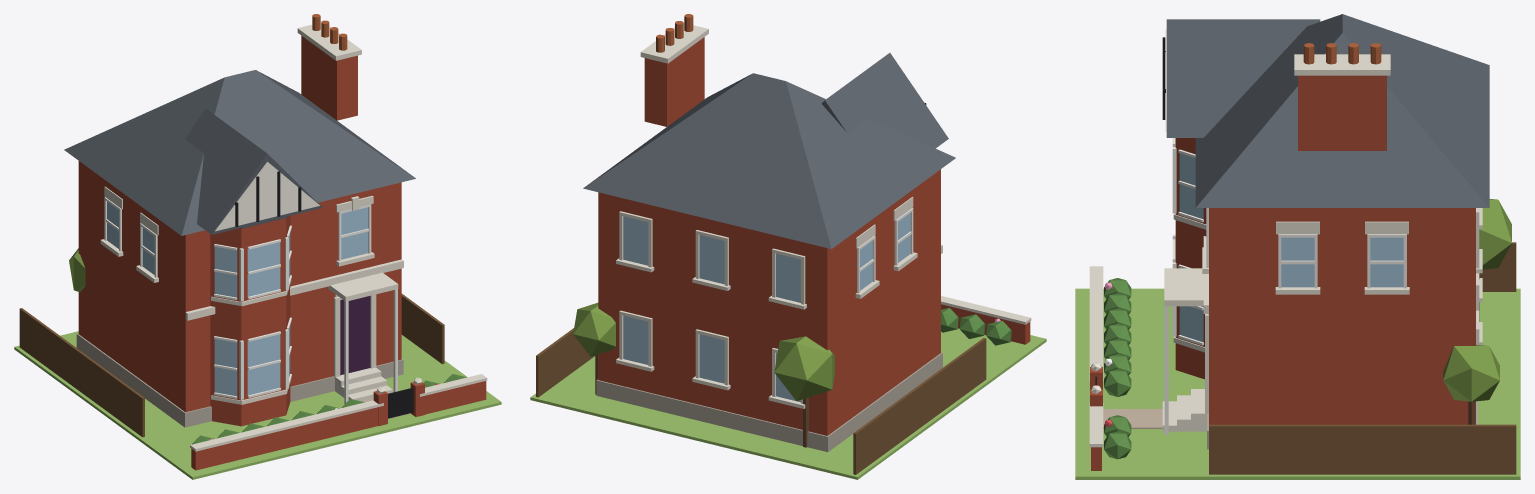
The model's file is MustakilEv_londra_edwardian_7_Hafif.fbx.
3 renders of one model, left to right at view 1: azimuth 30°, elevation 25°; view 2: azimuth 150°, elevation 25°; view 3: azimuth 270°, elevation 25°, orthographic. The views are drawn at different scales.
Parts seen in each view (by area): view 1: MustakilEv_londra_edwardian_7_Hafif; view 2: MustakilEv_londra_edwardian_7_Hafif; view 3: MustakilEv_londra_edwardian_7_Hafif.
Part boxes in pixels (<box>): MustakilEv_londra_edwardian_7_Hafif: <box>14,14,501,479</box>; MustakilEv_londra_edwardian_7_Hafif: <box>530,14,1046,479</box>; MustakilEv_londra_edwardian_7_Hafif: <box>1075,14,1520,479</box>.
Size of the model in its own units: 10 by 9.79 by 10.
